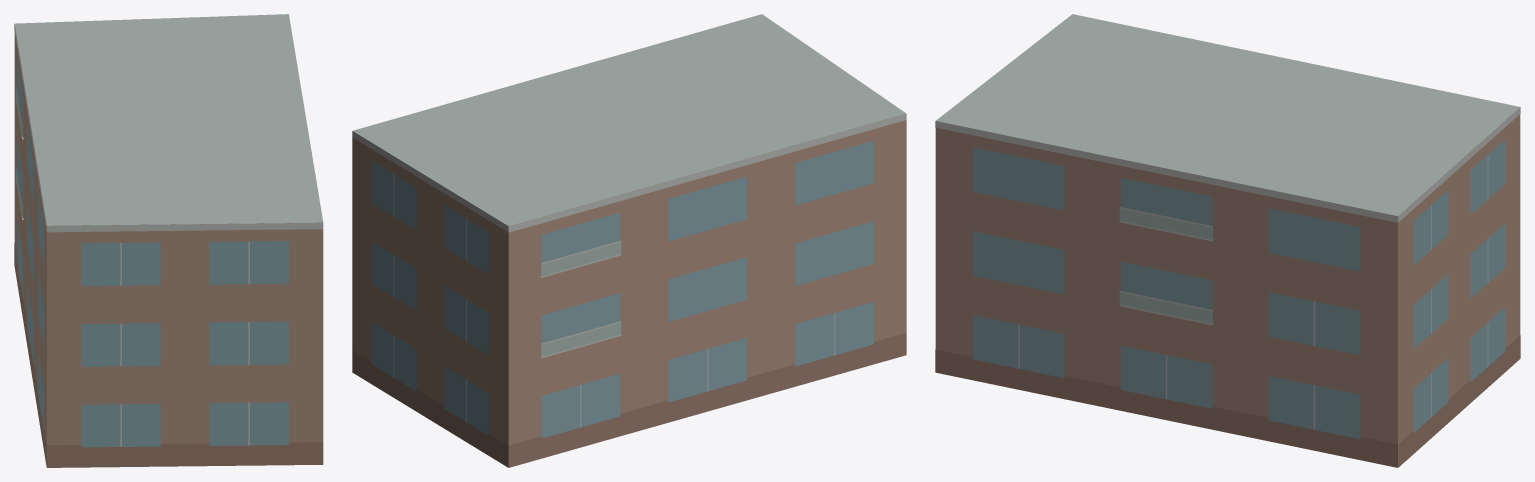
File: survey-upis-32764584.glb
3 renders of one model, left to right at view 1: azimuth 30°, elevation 25°; view 2: azimuth 150°, elevation 25°; view 3: azimuth 270°, elevation 25°, orthographic. The views are drawn at different scales.
Visible parts, largest first — view 1: survey-upis-32764584.tmp; view 2: survey-upis-32764584.tmp; view 3: survey-upis-32764584.tmp.
Boxes of the visible parts, x1,y1,x2,y2 form: survey-upis-32764584.tmp: (14, 14, 323, 467); survey-upis-32764584.tmp: (352, 14, 906, 467); survey-upis-32764584.tmp: (935, 14, 1520, 467).
Size of the model in its own units: 15.78 by 9.15 by 19.29.
